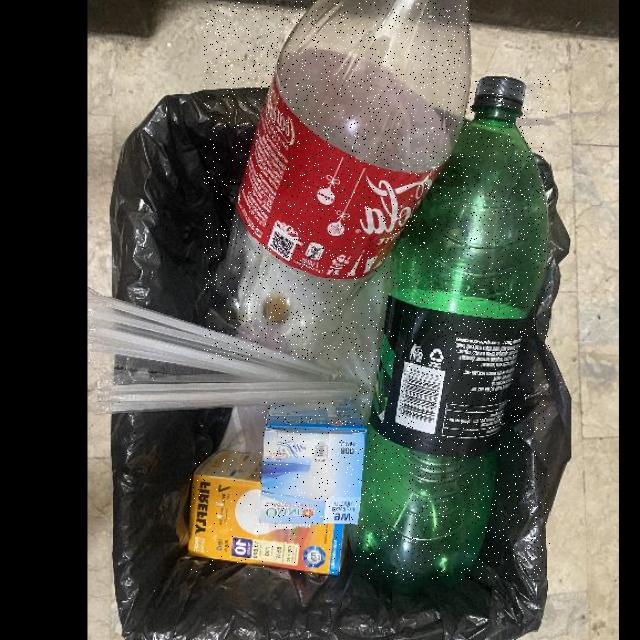paper: (189, 449, 346, 574), (261, 401, 366, 523)
plastic: (356, 75, 550, 579), (205, 0, 472, 360)
